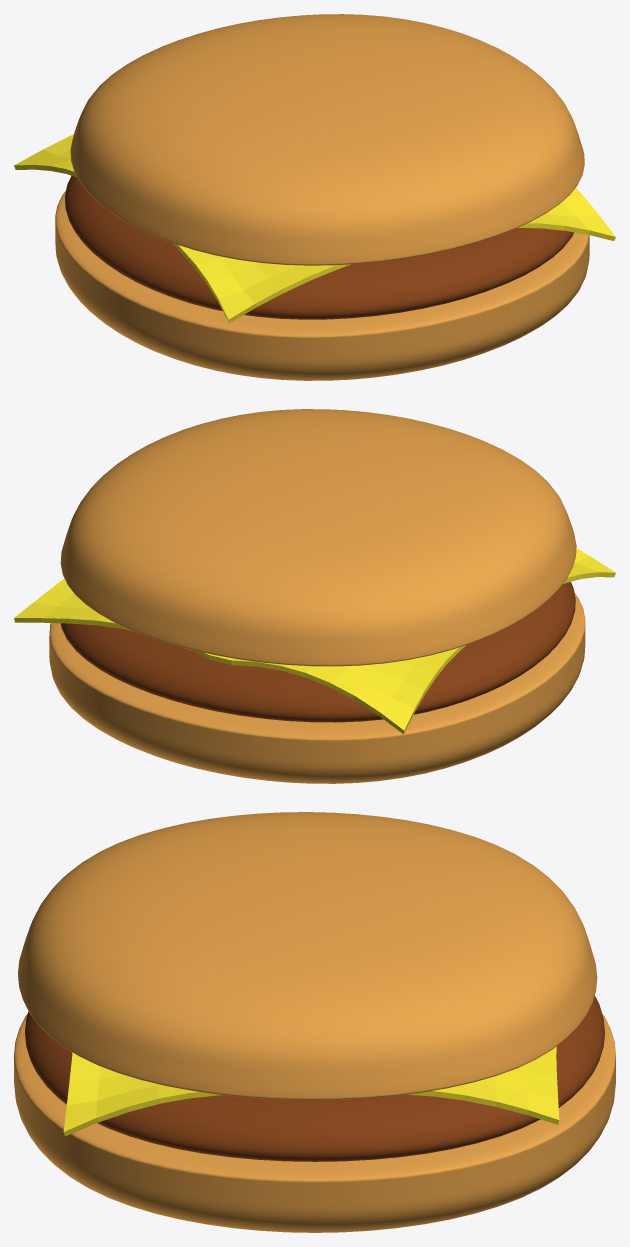
The model's file is burger.glb.
The picture shows the model from 3 angles, top to bottom: view 1: azimuth 30°, elevation 25°; view 2: azimuth 150°, elevation 25°; view 3: azimuth 270°, elevation 25°; orthographic projection. The views are drawn at different scales.
Parts seen in each view (by area): view 1: Cube.002, Cube, Cube.001, Plane; view 2: Cube.002, Cube, Cube.001, Plane; view 3: Cube.002, Cube, Cube.001, Plane.
Part boxes in pixels (x1=…): Cube.002: x1=70, y1=14, x2=584, y2=265; Cube: x1=55, y1=191, x2=589, y2=380; Cube.001: x1=65, y1=175, x2=573, y2=319; Plane: x1=14, y1=134, x2=615, y2=323; Cube.002: x1=60, y1=409, x2=576, y2=666; Cube: x1=49, y1=593, x2=585, y2=783; Cube.001: x1=60, y1=582, x2=575, y2=722; Plane: x1=14, y1=548, x2=615, y2=734; Cube.002: x1=18, y1=812, x2=597, y2=1099; Cube: x1=14, y1=1014, x2=615, y2=1232; Cube.001: x1=25, y1=995, x2=604, y2=1161; Plane: x1=63, y1=1046, x2=559, y2=1136.
Bounding box in the file's own units: 9 × 4.25 × 9.
